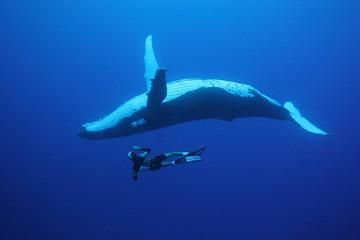fish: (77, 32, 333, 141)
